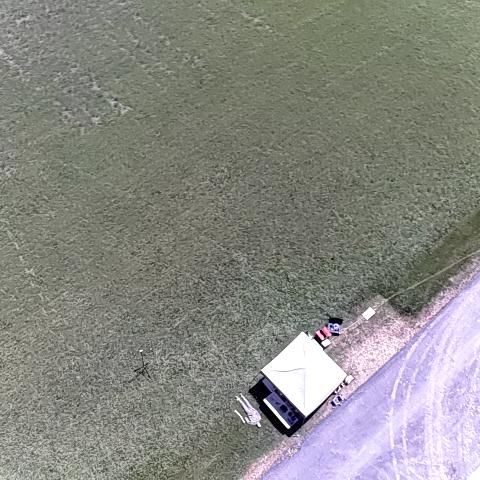person: (235, 392, 262, 427)
